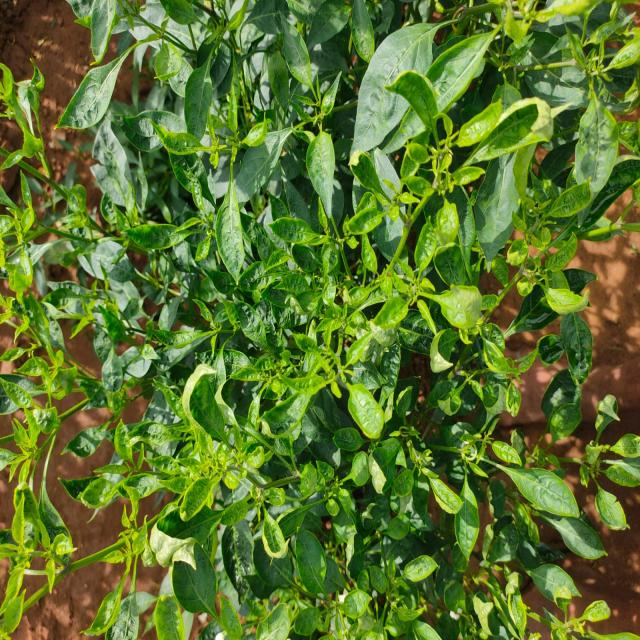Moko: (343, 64, 474, 349), (210, 236, 366, 414), (241, 122, 377, 292), (481, 163, 596, 343), (308, 504, 434, 640), (0, 451, 90, 638), (96, 391, 165, 621), (565, 11, 640, 190), (0, 172, 70, 348), (158, 407, 257, 528), (0, 32, 74, 186), (0, 334, 72, 481), (174, 79, 288, 169), (472, 0, 591, 73), (519, 576, 640, 640)
